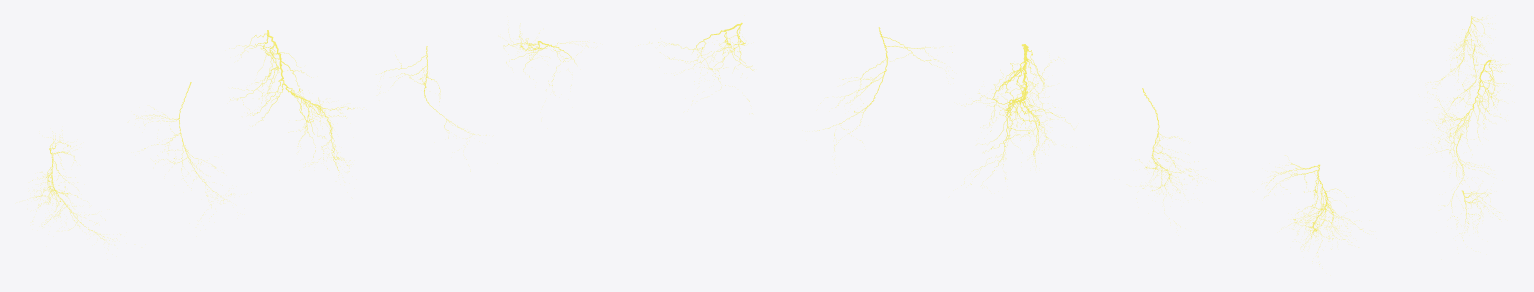
Rendered from lighting_pack_2_forked_lightning.glb.
3 views of the same model, side by side, from view 1: azimuth 30°, elevation 25°; view 2: azimuth 150°, elevation 25°; view 3: azimuth 270°, elevation 25° (orthographic). The views are drawn at different scales.
Visible parts, largest first — view 1: Lightning.005_4, Lightning.001_0, Lightning.002_1, Lightning.004_3; view 2: Lightning.005_4, Lightning.001_0, Lightning.004_3, Lightning.003_2, Lightning.002_1; view 3: Lightning.005_4, Lightning.001_0, Lightning.004_3, Lightning.002_1, Lightning.003_2.
Part boxes in pixels (x1=…): Lightning.005_4: x1=229, y1=30, x2=362, y2=175; Lightning.001_0: x1=27, y1=130, x2=120, y2=240; Lightning.002_1: x1=134, y1=82, x2=231, y2=216; Lightning.004_3: x1=503, y1=23, x2=594, y2=95; Lightning.005_4: x1=961, y1=44, x2=1073, y2=185; Lightning.001_0: x1=1262, y1=155, x2=1367, y2=268; Lightning.004_3: x1=638, y1=22, x2=754, y2=113; Lightning.003_2: x1=817, y1=27, x2=953, y2=150; Lightning.002_1: x1=1135, y1=88, x2=1205, y2=226; Lightning.005_4: x1=1429, y1=59, x2=1506, y2=184; Lightning.001_0: x1=1427, y1=16, x2=1491, y2=92; Lightning.004_3: x1=1457, y1=189, x2=1500, y2=248; Lightning.002_1: x1=1427, y1=45, x2=1506, y2=132; Lightning.003_2: x1=1443, y1=130, x2=1488, y2=224.
Size of the model in its own units: 77.25 by 21.65 by 16.49.
